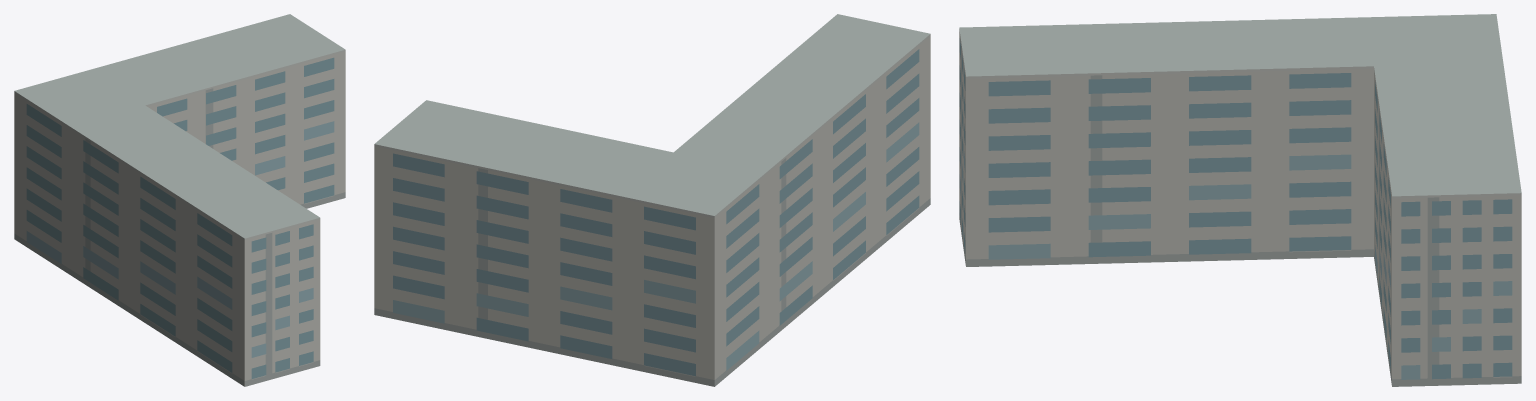
File: residential-371e0665-4a39-4a85-93a7-8135c6249f70.glb
3 renders of one model, left to right at view 1: azimuth 30°, elevation 25°; view 2: azimuth 150°, elevation 25°; view 3: azimuth 270°, elevation 25°, orthographic. The views are drawn at different scales.
Parts seen in each view (by area): view 1: residential-371e0665-4a39-4a85-93a7-8135c6249f70.tmp; view 2: residential-371e0665-4a39-4a85-93a7-8135c6249f70.tmp; view 3: residential-371e0665-4a39-4a85-93a7-8135c6249f70.tmp.
Part boxes in pixels (x1,y1,x2,y2): residential-371e0665-4a39-4a85-93a7-8135c6249f70.tmp: (14,14,345,386); residential-371e0665-4a39-4a85-93a7-8135c6249f70.tmp: (374,14,930,386); residential-371e0665-4a39-4a85-93a7-8135c6249f70.tmp: (959,14,1521,386).
Bounding box in the file's own units: 43.83 × 21.35 × 57.12.
